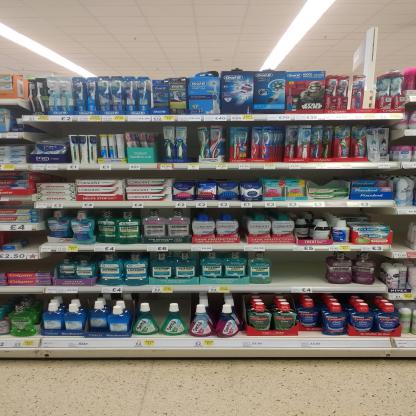Void: (271, 254, 322, 284), (176, 169, 255, 181), (268, 171, 383, 179), (79, 170, 169, 179), (393, 216, 410, 248), (36, 125, 69, 139), (6, 261, 52, 270), (40, 173, 72, 181), (28, 233, 37, 254), (9, 232, 22, 240)
